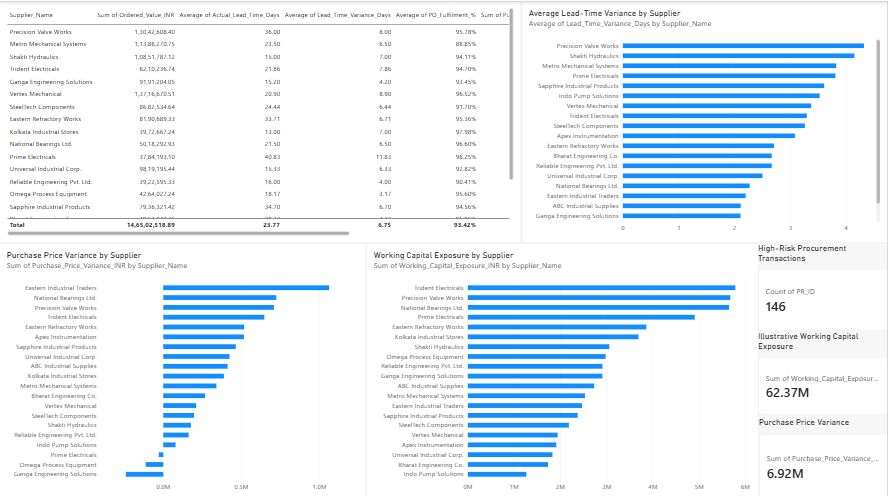

The page's visual inventory and layout, read from the dashboard file:
{"tool":"powerbi","page":{"name":"Working Capital & Process Improvement","canvas":[1920,1080],"ordinal":2},"visuals":[{"type":"cardVisual","title":"Purchase Price Variance","fields":{"Data":["Sum(ProcurementAnalysis.Purchase_Price_Variance_INR)"]},"box":[1642.5,897.5,278.6,181.4],"z":0},{"type":"cardVisual","title":"Illustrative Working Capital Exposure","fields":{"Data":["Sum(ProcurementAnalysis.Working_Capital_Exposure_INR)"]},"box":[1640,712.5,279,181],"z":1000},{"type":"cardVisual","title":"High-Risk Procurement Transactions","fields":{"Data":["CountNonNull(ProcurementAnalysis.PR_ID)"]},"box":[1640,522.5,280,190],"z":2000},{"type":"clusteredBarChart","title":"Purchase Price Variance by Supplier","fields":{"Category":["ProcurementAnalysis.Supplier_Name"],"Y":["Sum(ProcurementAnalysis.Purchase_Price_Variance_INR)"]},"box":[0,522.5,792.5,557.5],"z":3000},{"type":"clusteredBarChart","title":"Average Lead-Time Variance by Supplier","fields":{"Category":["ProcurementAnalysis.Supplier_Name"],"Y":["Avg(ProcurementAnalysis.Lead_Time_Variance_Days)"]},"box":[1127.5,0,792.5,522.5],"z":4000},{"type":"clusteredBarChart","title":"Working Capital Exposure by Supplier","fields":{"Category":["ProcurementAnalysis.Supplier_Name"],"Y":["Sum(ProcurementAnalysis.Working_Capital_Exposure_INR)"]},"box":[792.5,522.5,847.5,557.5],"z":4001},{"type":"tableEx","fields":{"Values":["ProcurementAnalysis.Supplier_Name","Sum(ProcurementAnalysis.Ordered_Value_INR)","Avg(ProcurementAnalysis.Actual_Lead_Time_Days)","Avg(ProcurementAnalysis.Lead_Time_Variance_Days)","Avg(ProcurementAnalysis.PO_Fulfilment_%)","Sum(ProcurementAnalysis.Purchase_Price_Variance_INR)","Sum(ProcurementAnalysis.Working_Capital_Exposure_INR)","ProcurementAnalysis.Process_Risk"]},"box":[0,0,1127.5,522.5],"z":4002}]}

Visuals, with their boxes in screenshot pixels (x1, y1, x2, y2), scaled from the page's 1920x1080 canvas onto the 888x496 screenshot:
"Purchase Price Variance" cardVisual: l=760, t=412, r=887, b=495
"Illustrative Working Capital Exposure" cardVisual: l=758, t=327, r=887, b=410
"High-Risk Procurement Transactions" cardVisual: l=758, t=240, r=887, b=327
"Purchase Price Variance by Supplier" clusteredBarChart: l=0, t=240, r=367, b=495
"Average Lead-Time Variance by Supplier" clusteredBarChart: l=521, t=0, r=887, b=240
"Working Capital Exposure by Supplier" clusteredBarChart: l=367, t=240, r=758, b=495
tableEx - ProcurementAnalysis.Supplier_Name x Sum(ProcurementAnalysis.Ordered_Value_INR): l=0, t=0, r=521, b=240
